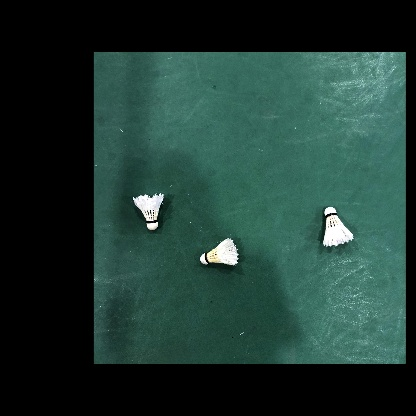ball_single: (323, 207, 354, 247), (133, 193, 164, 230), (200, 238, 239, 265)
